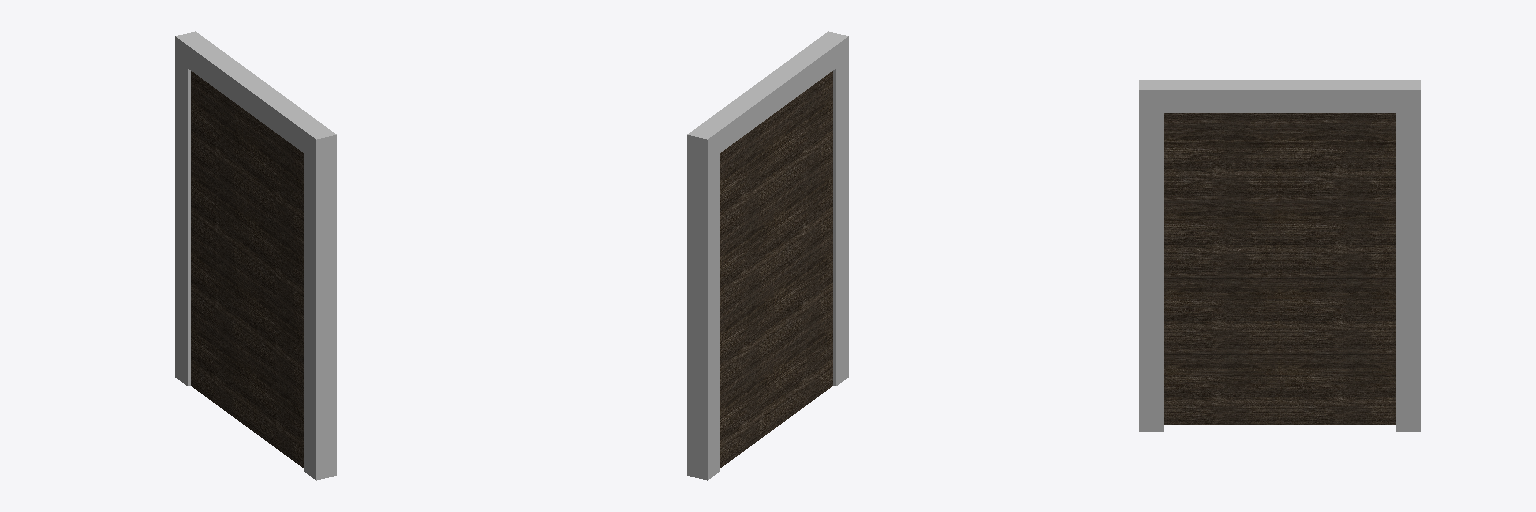
3 views of the same model, side by side, from view 1: azimuth 30°, elevation 25°; view 2: azimuth 150°, elevation 25°; view 3: azimuth 270°, elevation 25° (orthographic).
Parts seen in each view (by area): view 1: PivotDoor001; view 2: PivotDoor001; view 3: PivotDoor001.
Part boxes in pixels (x1,y1,x2,y2): PivotDoor001: (175, 31, 336, 480); PivotDoor001: (687, 31, 848, 480); PivotDoor001: (1139, 80, 1420, 431).
Size of the model in its own units: 0.14 by 2.24 by 1.68.
Materials: 2 (1 with a texture image).